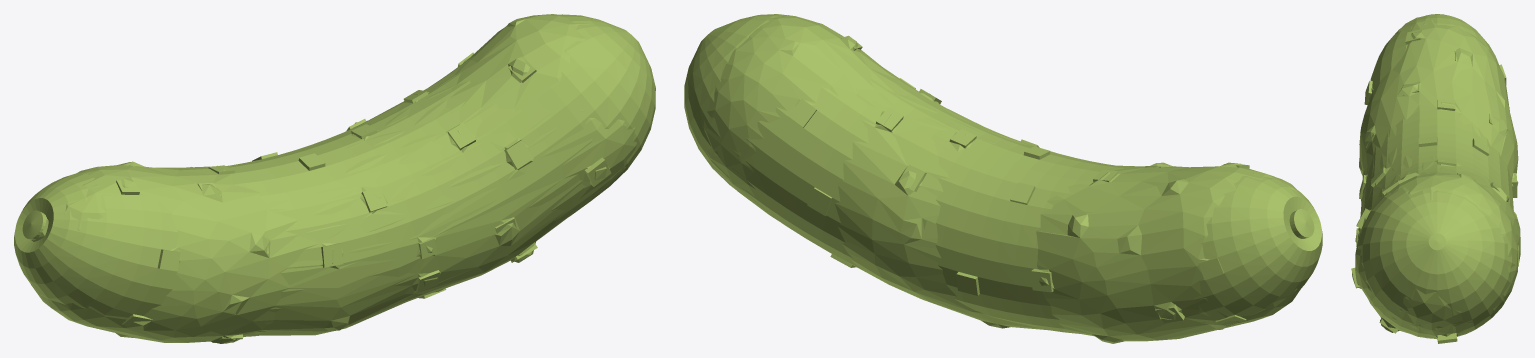
3 renders of one model, left to right at view 1: azimuth 30°, elevation 25°; view 2: azimuth 150°, elevation 25°; view 3: azimuth 270°, elevation 25°, orthographic. The views are drawn at different scales.
Visible parts, largest first — view 1: Capsule, Subdivision_Surface.2; view 2: Subdivision_Surface.2, Capsule; view 3: Capsule, Subdivision_Surface.2.
Boxes of the visible parts, x1=… form: Capsule: x1=14, y1=14, x2=655, y2=342; Subdivision_Surface.2: x1=30, y1=14, x2=636, y2=343; Subdivision_Surface.2: x1=703, y1=15, x2=1300, y2=343; Capsule: x1=684, y1=14, x2=1322, y2=333; Capsule: x1=1351, y1=14, x2=1518, y2=343; Subdivision_Surface.2: x1=1352, y1=17, x2=1520, y2=338.
Size of the model in its own units: 381 by 141 by 104.
